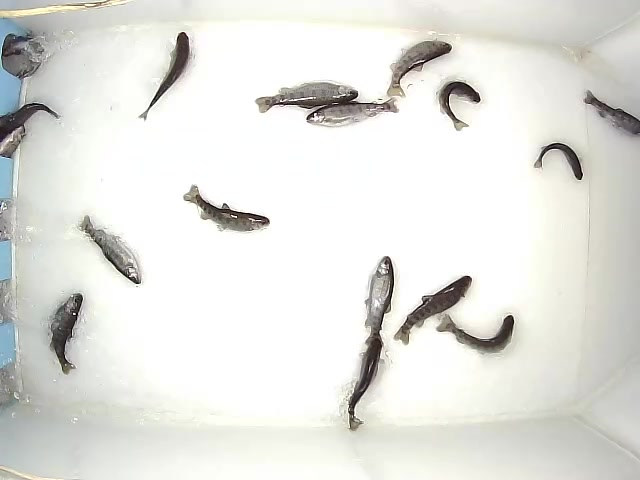fish: (393, 275, 472, 346), (136, 32, 192, 122), (77, 215, 141, 284), (183, 184, 270, 232), (385, 40, 452, 98), (347, 332, 384, 431), (255, 82, 358, 113), (436, 314, 514, 354), (306, 97, 400, 128), (49, 293, 83, 375), (364, 256, 394, 348), (583, 90, 640, 137), (438, 81, 481, 131), (1, 35, 43, 80), (533, 143, 583, 180)
